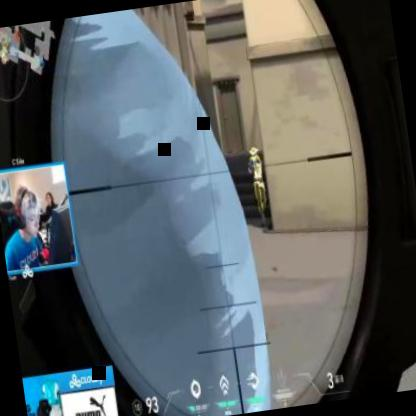enemy: (242, 143, 270, 226)
enemy_head: (249, 147, 256, 158)
